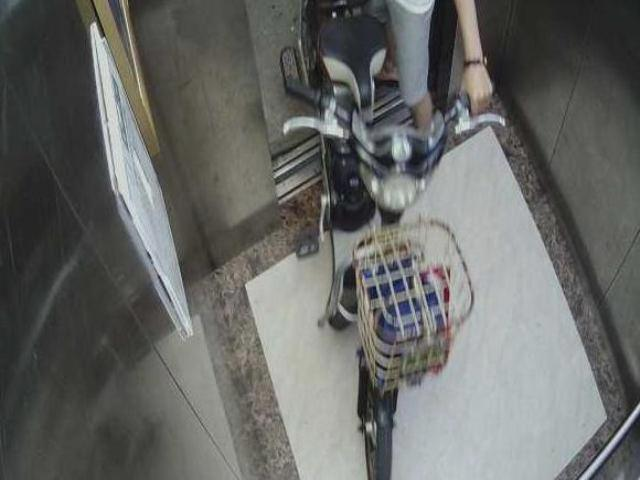emotor: (269, 6, 458, 475)
